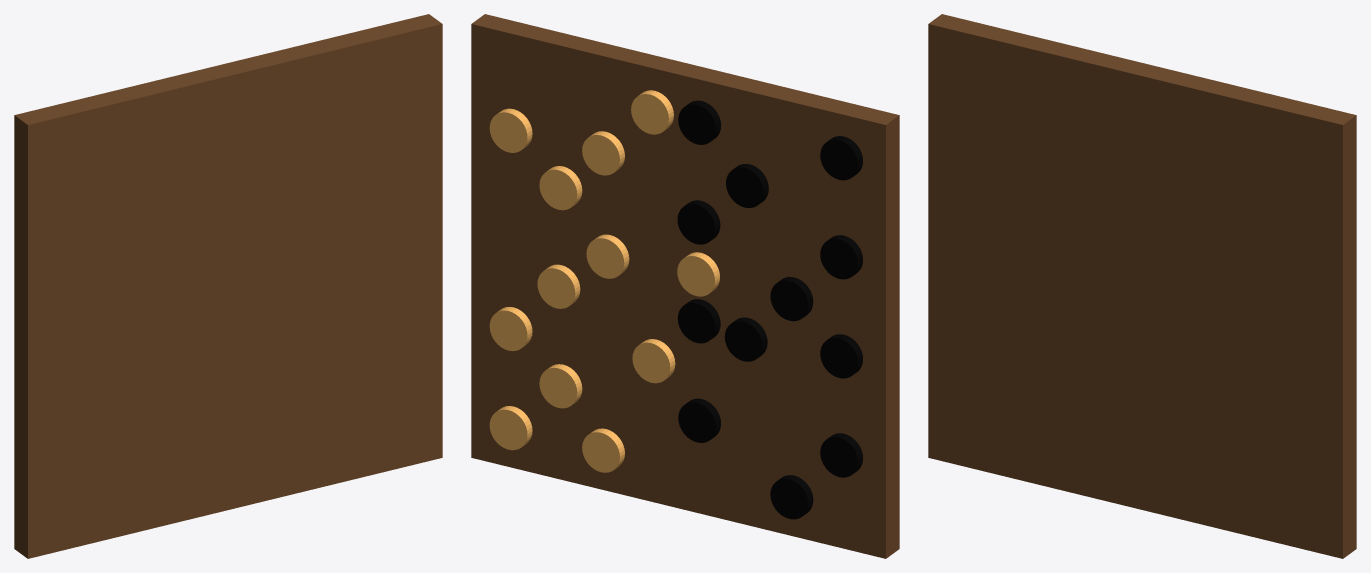
Rendered from Checkers.fbx.
3 renders of one model, left to right at view 1: azimuth 30°, elevation 25°; view 2: azimuth 150°, elevation 25°; view 3: azimuth 330°, elevation 25°, orthographic.
Visible parts, largest first — view 1: Checkers Board; view 2: Checkers Board, Checkers; view 3: Checkers Board.
Part boxes in pixels (box(x1,y1,x2,y2)): Checkers Board: box(14, 14, 442, 558); Checkers Board: box(471, 14, 899, 558); Checkers: box(489, 90, 862, 519); Checkers Board: box(928, 14, 1356, 558).
Bounding box in the file's own units: 492 × 492 × 38.35.
